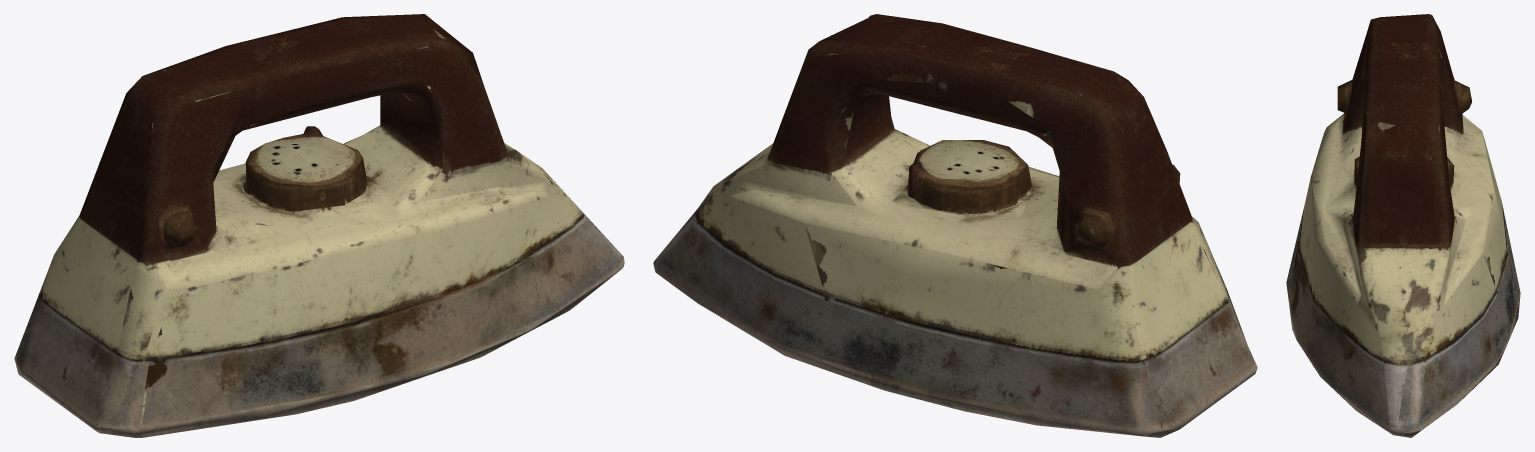
The model's file is discarded_electric_iron.glb.
3 renders of one model, left to right at view 1: azimuth 30°, elevation 25°; view 2: azimuth 150°, elevation 25°; view 3: azimuth 270°, elevation 25°, orthographic. The views are drawn at different scales.
Bounding box in the file's own units: 0.33 × 0.174 × 0.143.
Materials: 1 (1 with a texture image).
